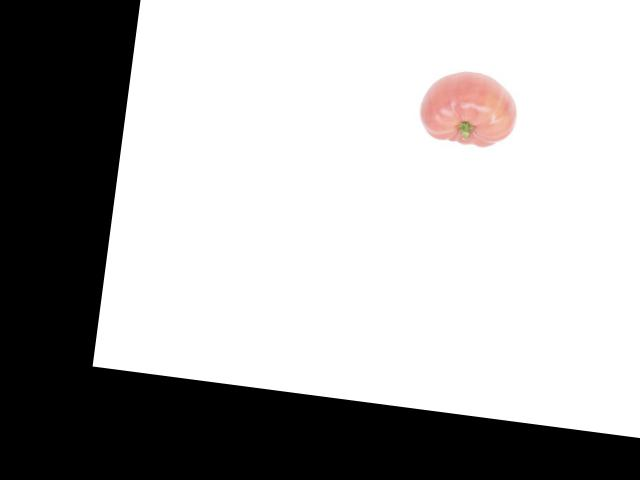tomato: (417, 66, 522, 149)
